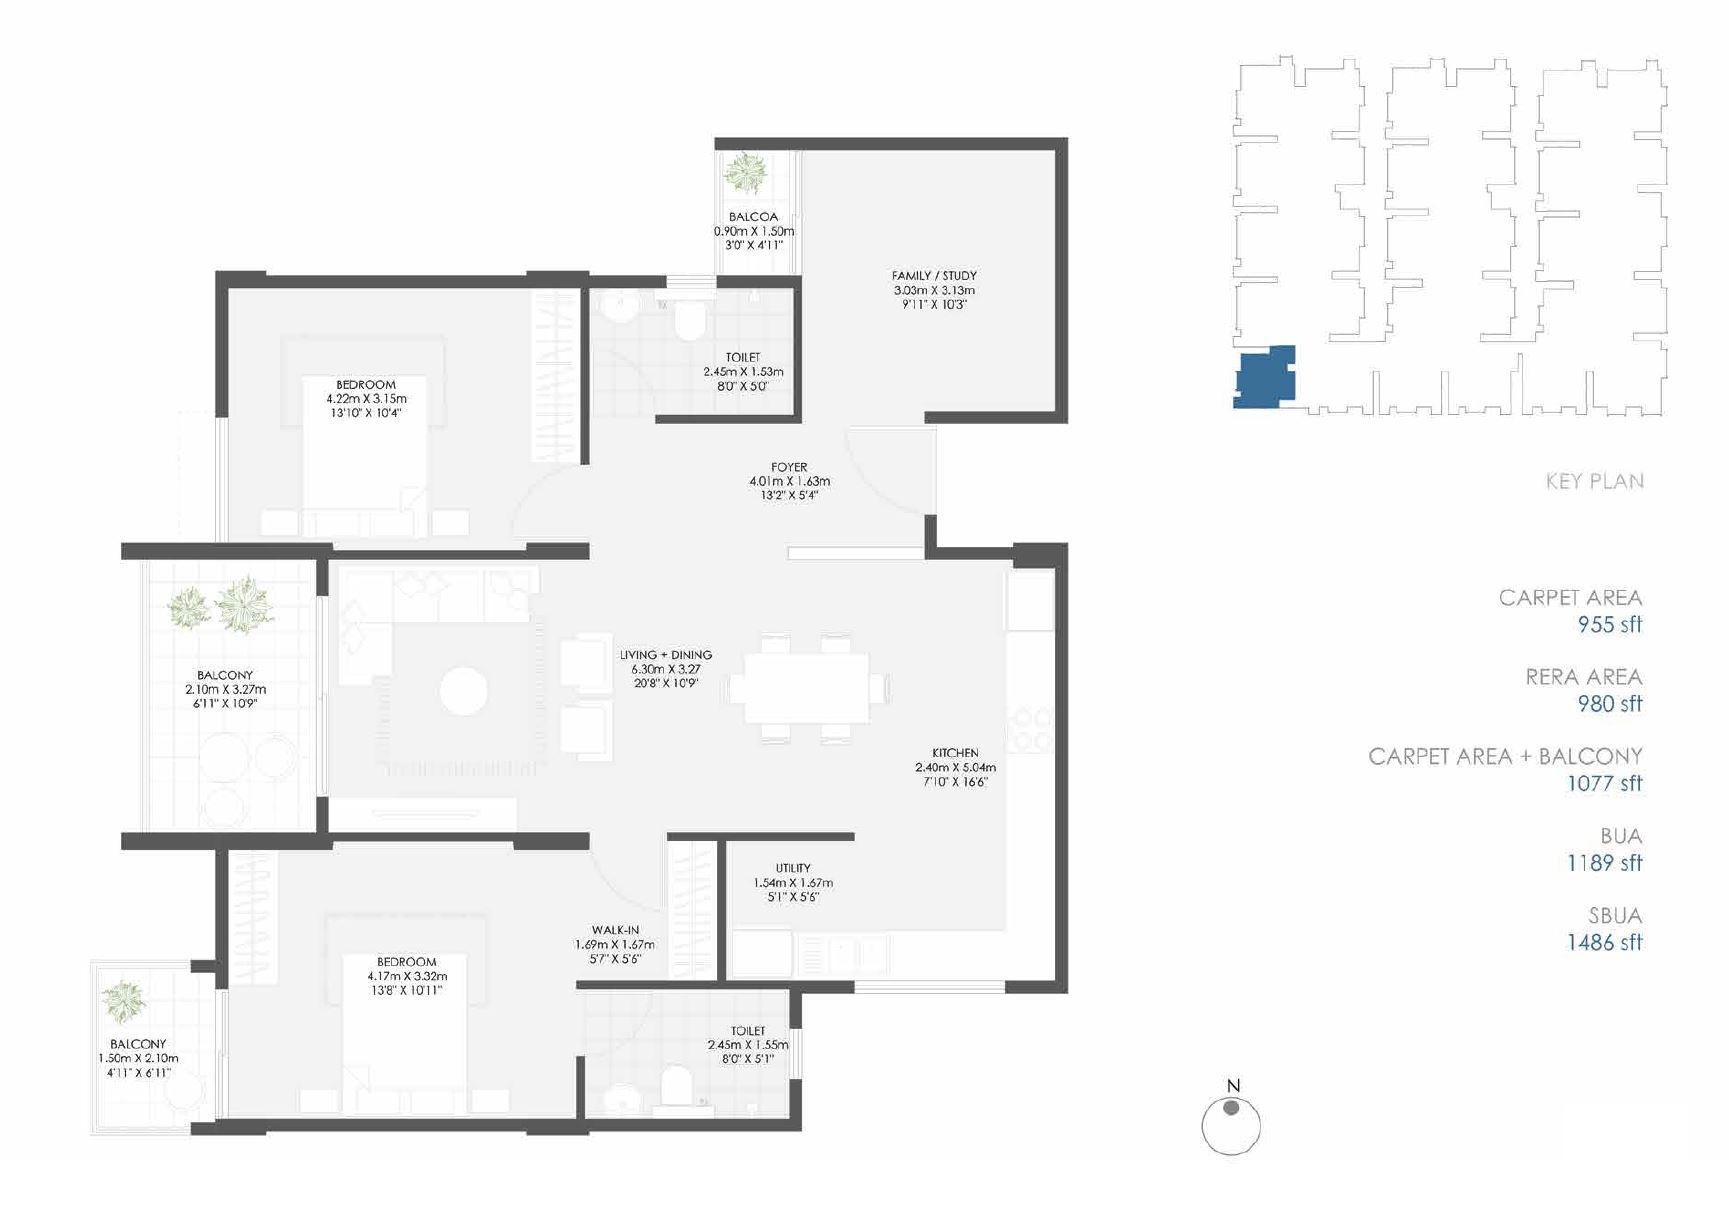Balcony: (145, 561, 315, 829)
Bed: (302, 377, 423, 547), (340, 956, 461, 1122)
Bedroom: (225, 843, 578, 1122), (223, 285, 583, 544)
Dining Room: (640, 553, 914, 824)
Dining table: (720, 623, 896, 755)
Foyer: (593, 424, 932, 545)
Kitchen: (886, 564, 1052, 981)
Living Room: (321, 558, 652, 829)
Sofa: (336, 565, 540, 620), (335, 569, 395, 694), (554, 699, 612, 758), (558, 635, 610, 691)
Wardrobe: (523, 284, 577, 466), (225, 851, 280, 988), (666, 837, 713, 981)
balcoa: (96, 966, 210, 1125), (717, 147, 794, 275)
commode: (671, 300, 707, 339), (662, 1067, 694, 1105)
door: (840, 424, 937, 522), (501, 460, 598, 548), (583, 837, 665, 920), (306, 590, 336, 794), (577, 991, 656, 1067), (591, 348, 662, 423), (201, 981, 235, 1122)
fridge: (1009, 568, 1056, 629)
kitchen-slab: (1000, 632, 1055, 976), (801, 926, 1059, 983)
sink: (807, 930, 871, 983), (602, 1080, 641, 1118), (598, 292, 641, 325)
stove: (999, 706, 1055, 767)
study: (805, 148, 1056, 413)
toilet: (587, 286, 795, 415), (583, 991, 795, 1117)
tv: (359, 799, 490, 830)
utility: (727, 840, 868, 978)
walkin: (577, 849, 713, 981)
washing-machine: (725, 924, 796, 984)
